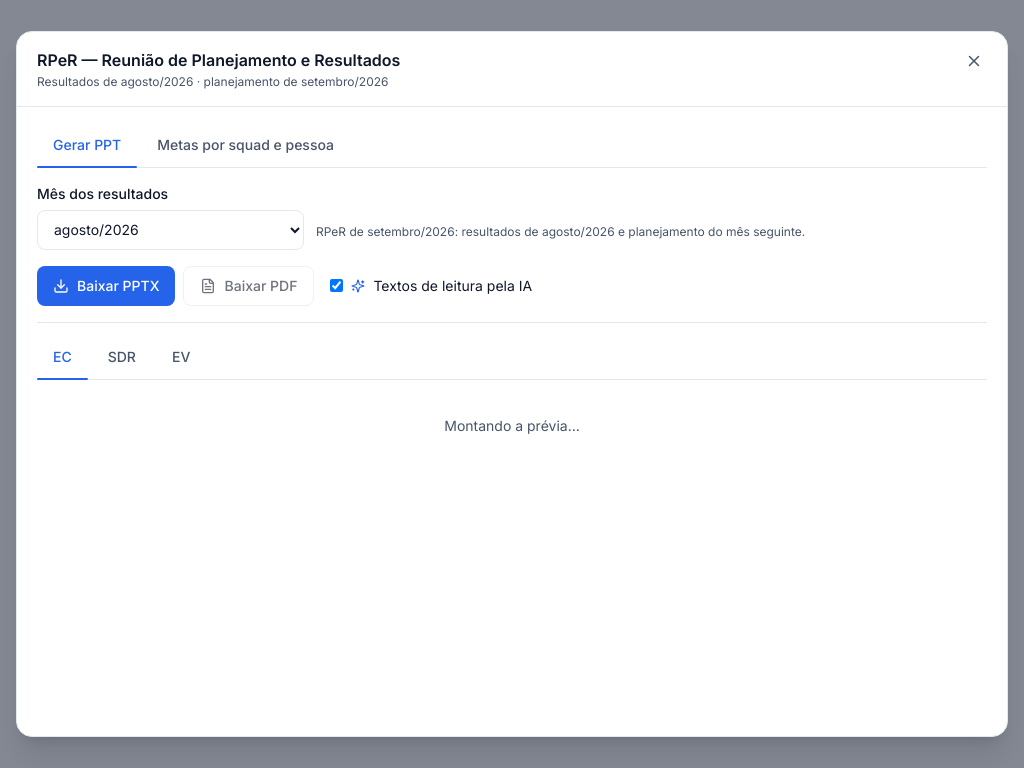
RperMonitor — Metas › abre no mês do planejamento e salva squad e pessoa no mesmo PUT
This screenshot has width=1024, height=768.
Click the tab with test id "tab-metas" at (246, 145), box [141,123,350,167]
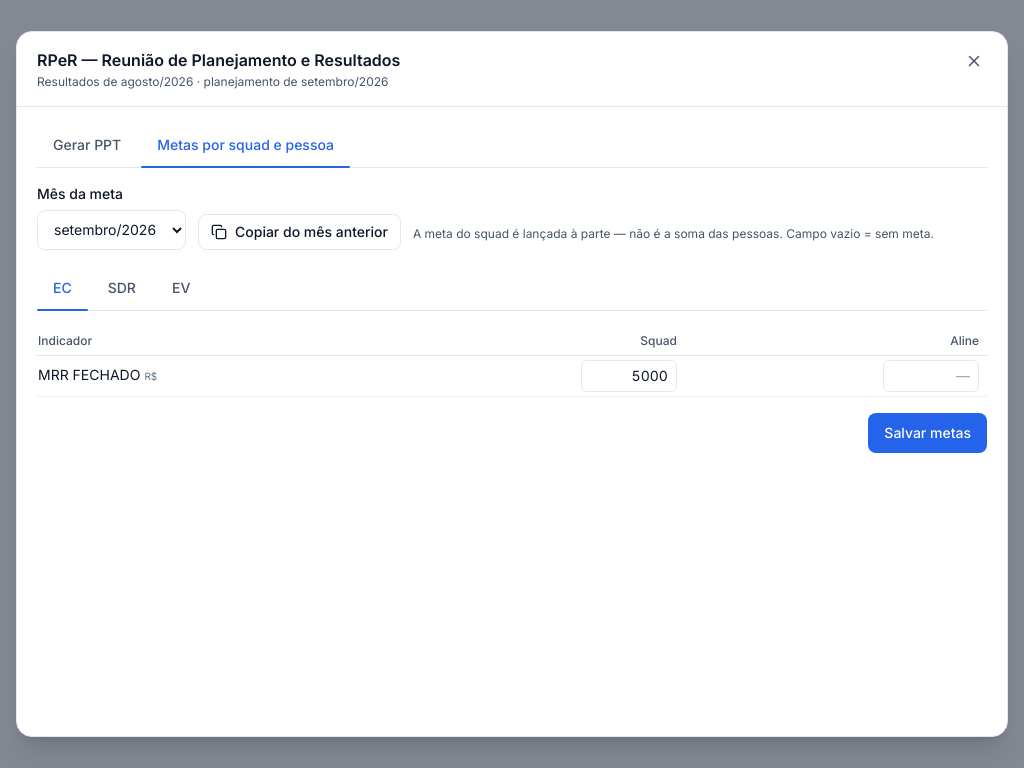
Click the tab with test id "tab-SDR" at (122, 288), box [92,266,152,310]
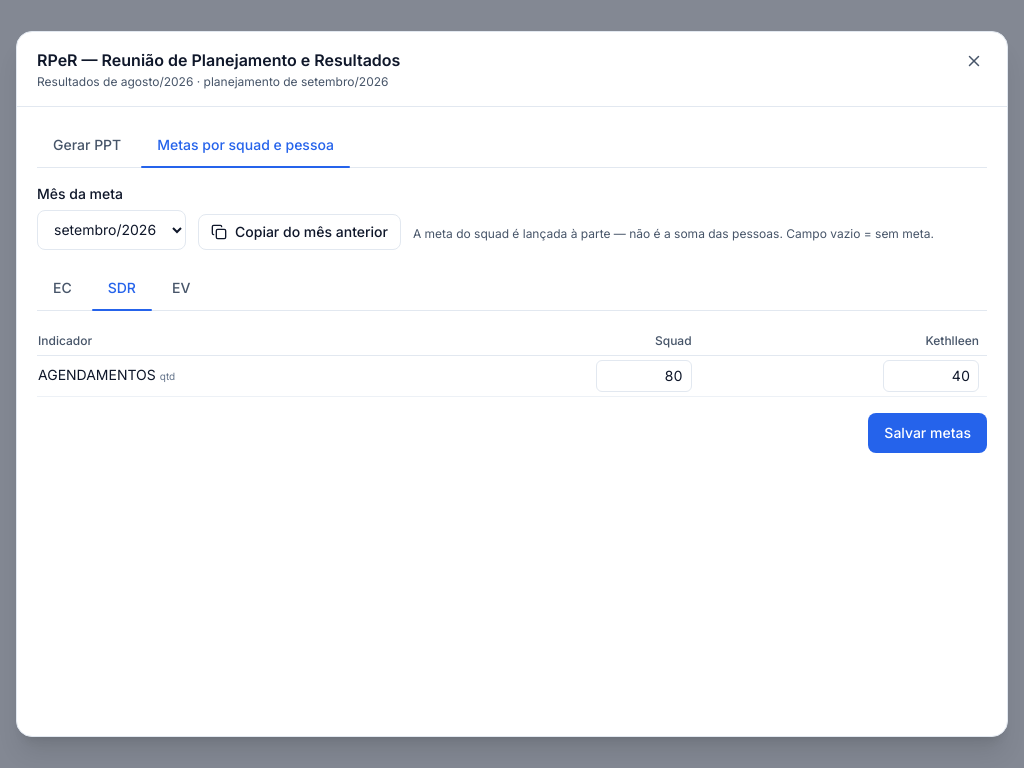
Now the field named "AGENDAMENTOS — squad" holds "80"
Replace the text in the field named "AGENDAMENTOS — squad" with "90" at (644, 376), box [596,360,692,392]
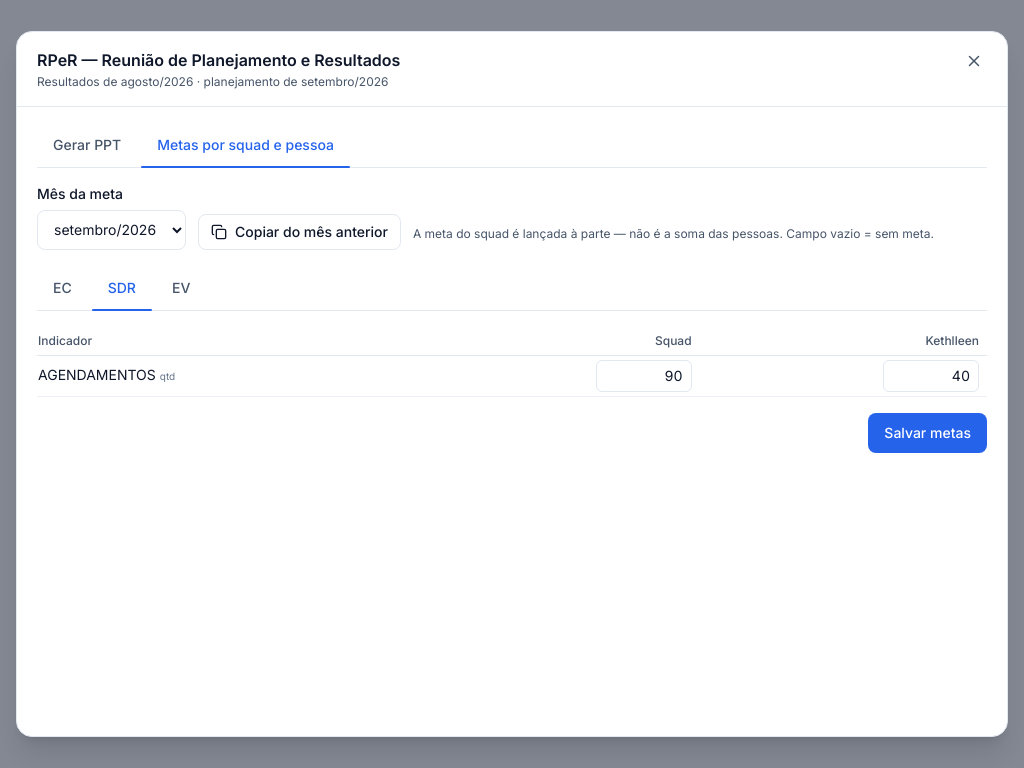
Clear the field named "AGENDAMENTOS — Kethlleen Gomes" at (931, 376), box [883,360,979,392]
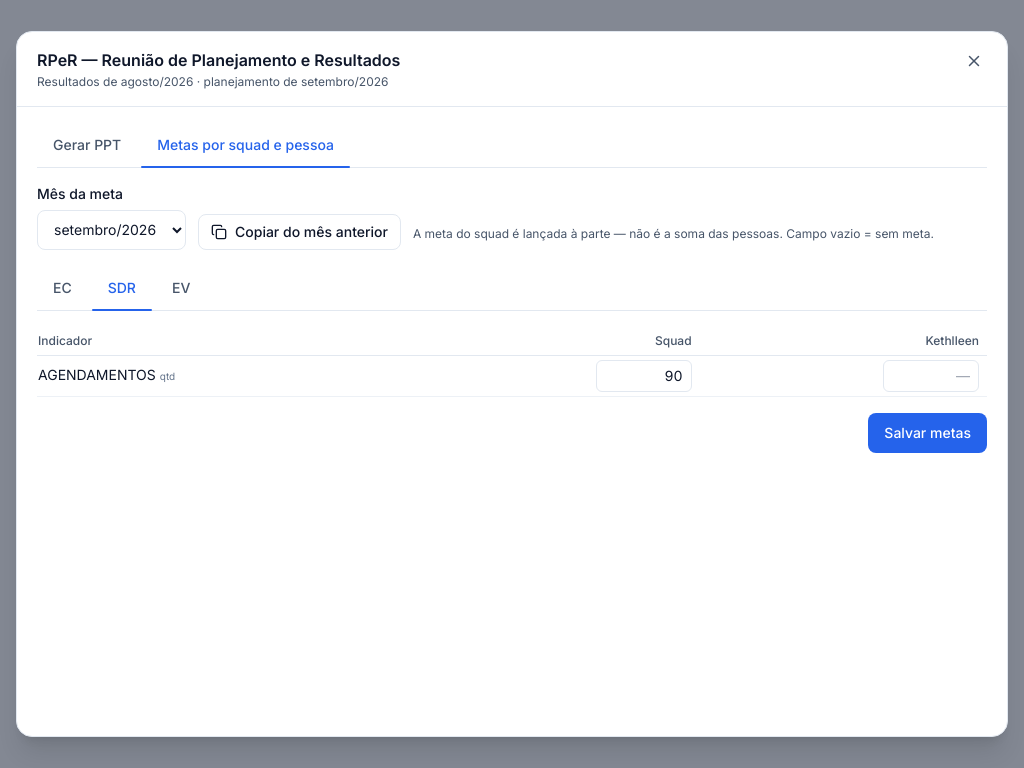
Click the button "Salvar metas" at (928, 433), box [868,413,987,453]
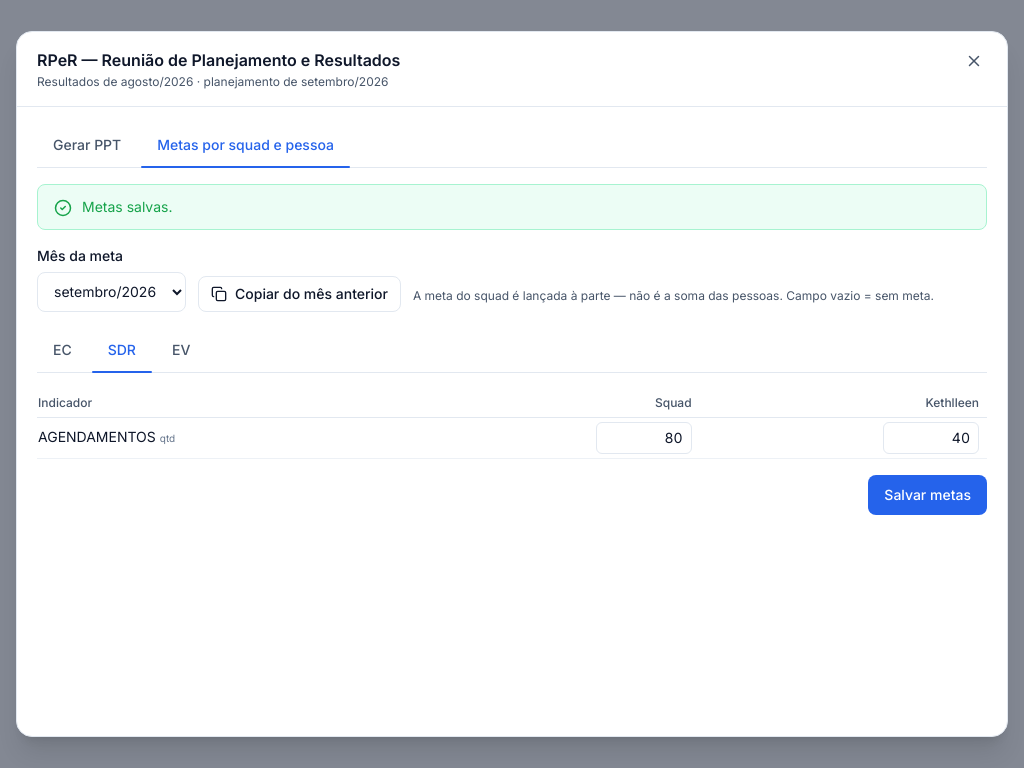
Now the text "Metas salvas." is shown, box [82,198,172,215]
